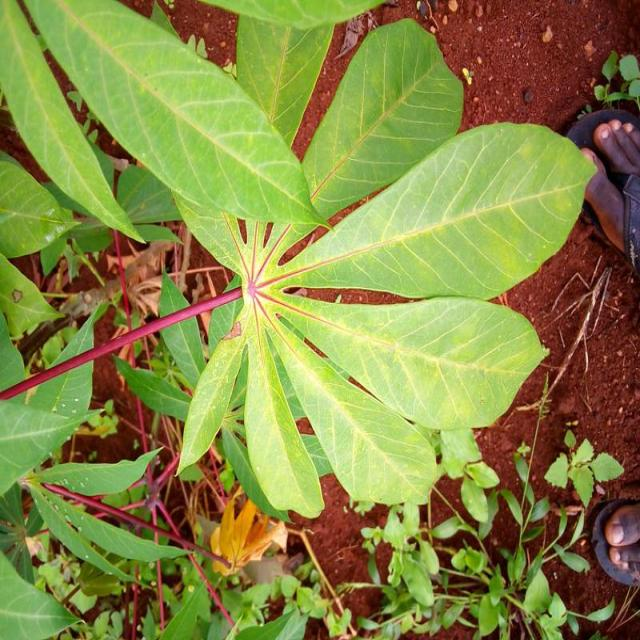cassava leaf: (12, 0, 599, 519), (23, 0, 334, 235), (271, 119, 598, 301), (302, 17, 466, 221)
